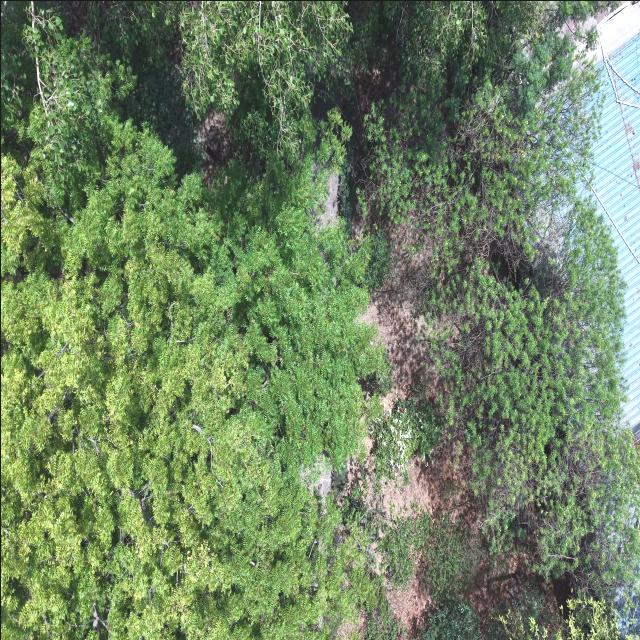DRY_AREA: (347, 436, 536, 628), (378, 441, 556, 628), (344, 439, 486, 551), (362, 226, 442, 411), (362, 226, 438, 405), (349, 440, 478, 539), (382, 441, 477, 534), (387, 555, 431, 638), (197, 112, 233, 185)
ROOFTOP_BUILDING: (592, 5, 639, 436)
VEGETATION_TREE: (1, 1, 639, 639), (1, 9, 381, 638), (1, 124, 379, 638), (362, 4, 639, 595), (177, 1, 350, 148), (381, 512, 478, 606), (420, 596, 620, 639), (370, 397, 443, 478), (500, 595, 620, 639), (420, 602, 481, 639), (365, 597, 405, 639), (365, 232, 390, 292)
